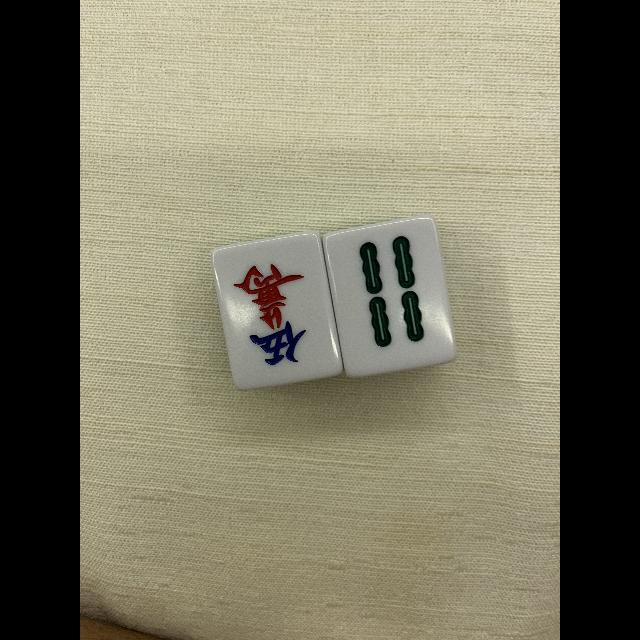b4: (335, 225, 449, 362)
c5: (224, 239, 330, 379)
